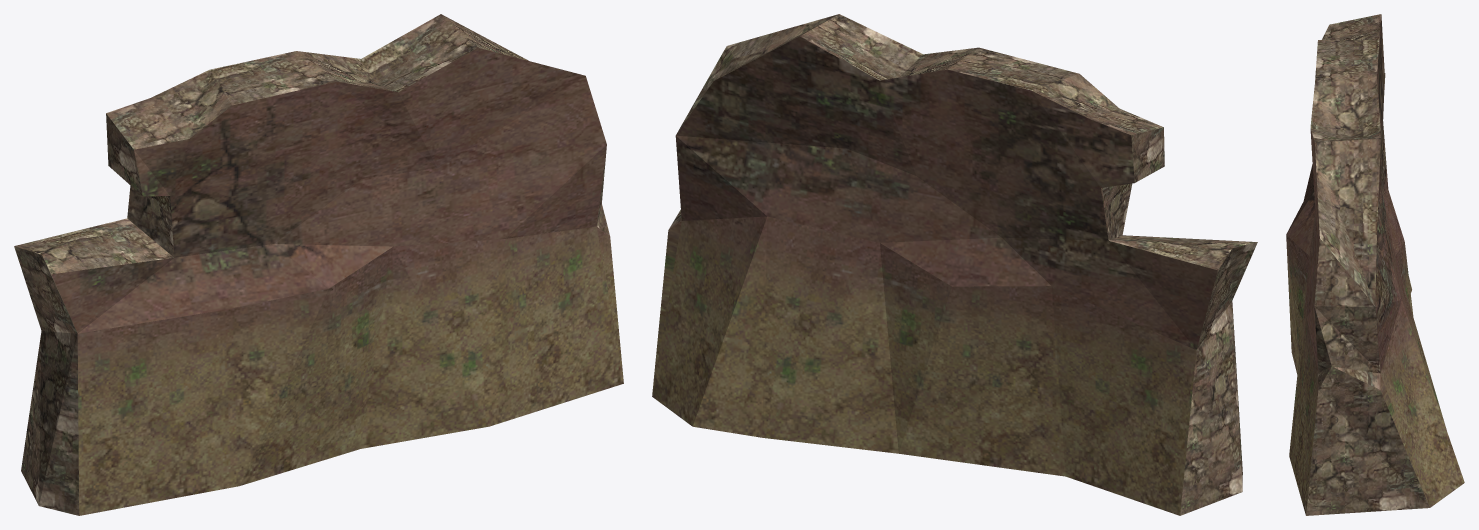
Rendered from C1SMDEBRIWC1.obj.
3 views of the same model, side by side, from view 1: azimuth 30°, elevation 25°; view 2: azimuth 150°, elevation 25°; view 3: azimuth 270°, elevation 25° (orthographic). The views are drawn at different scales.
Visible parts, largest first — view 1: Node 0; view 2: Node 0; view 3: Node 0.
Part boxes in pixels (x1,y1,x2,y2): Node 0: (14,14,623,515); Node 0: (652,14,1257,515); Node 0: (1286,14,1464,515).
Bounding box in the file's own units: 11.28 × 7.13 × 3.6.
Materials: 3 (3 with a texture image).
